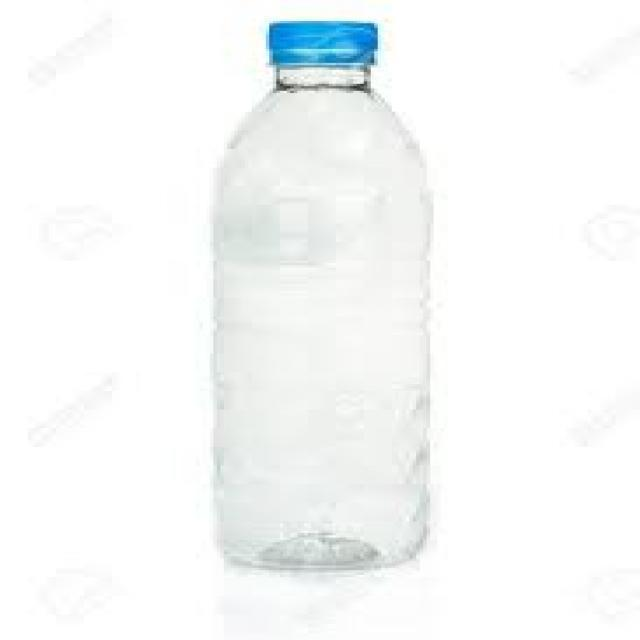Plastic: (214, 19, 431, 570)
